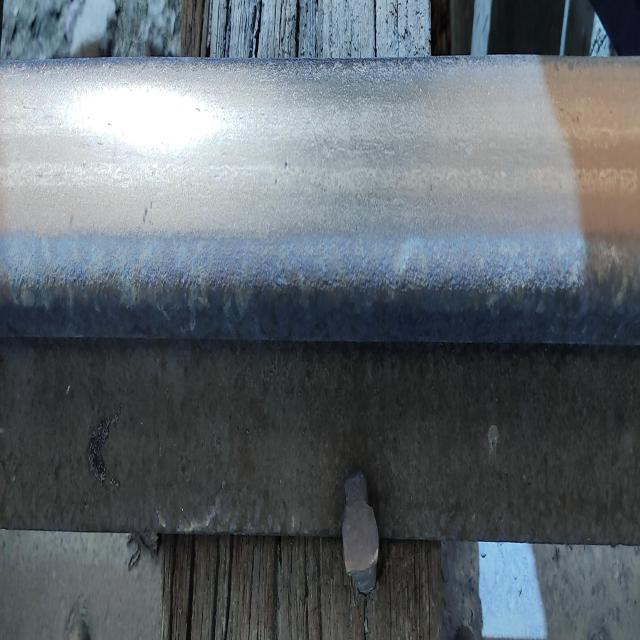Good Fasteners: (342, 472, 379, 594)
